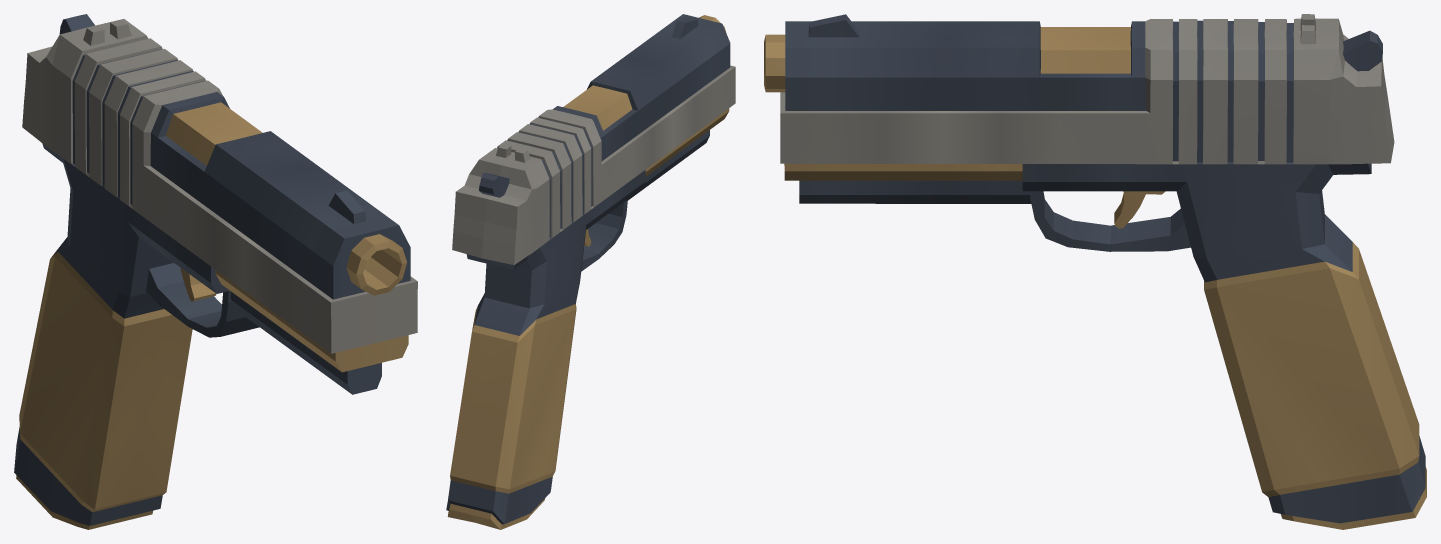
3 views of the same model, side by side, from view 1: azimuth 30°, elevation 25°; view 2: azimuth 150°, elevation 25°; view 3: azimuth 270°, elevation 25° (orthographic). The views are drawn at different scales.
Parts seen in each view (by area): view 1: talon; view 2: talon; view 3: talon.
Boxes of the visible parts, box(x1,y1,x2,y2) form: talon: box(14, 14, 417, 529); talon: box(446, 14, 735, 529); talon: box(764, 14, 1426, 529).
Bounding box in the file's own units: 0.0358 × 0.1937 × 0.235.
Materials: 1 (1 with a texture image).
